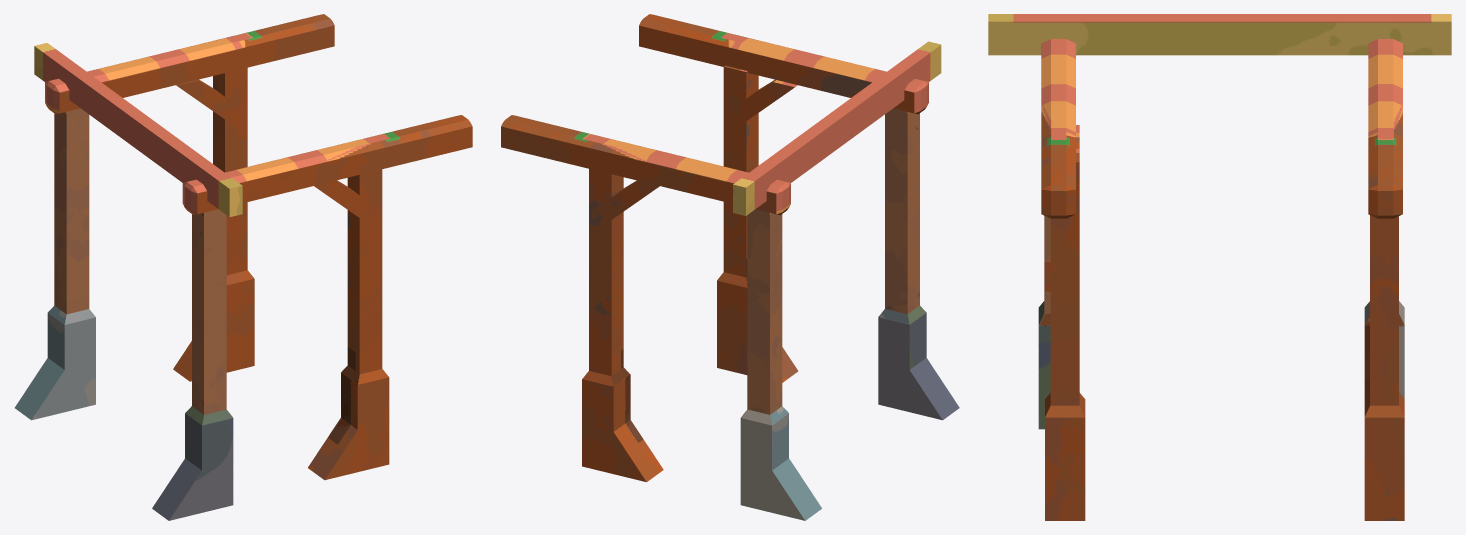
Rendered from shelf.fbx.
The picture shows the model from 3 angles, left to right: view 1: azimuth 30°, elevation 25°; view 2: azimuth 150°, elevation 25°; view 3: azimuth 270°, elevation 25°; orthographic projection. The views are drawn at different scales.
Parts seen in each view (by area): view 1: shelf; view 2: shelf; view 3: shelf.
Boxes of the visible parts, x1,y1,x2,y2 form: shelf: (14, 14, 472, 520); shelf: (501, 14, 959, 520); shelf: (988, 14, 1451, 520).
Bounding box in the file's own units: 425 × 446 × 468.
1 material, 1 textured.
